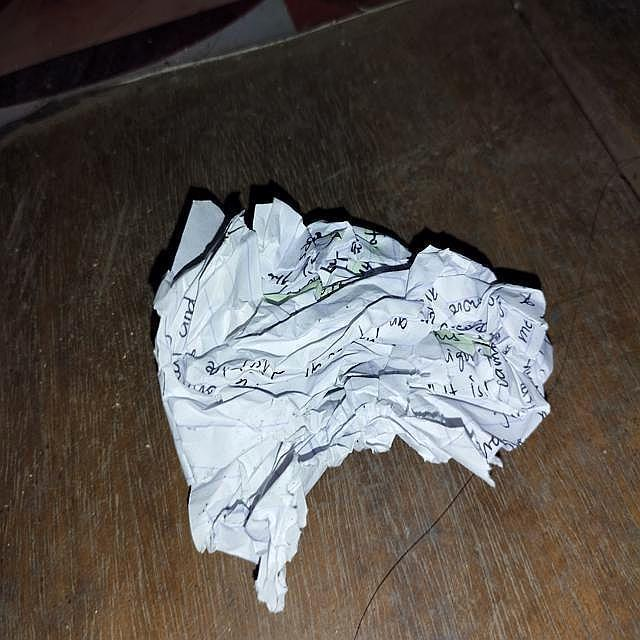Biodegradable: (155, 193, 559, 589)
